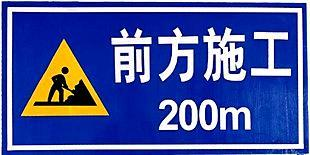sign: (5, 4, 305, 151)
